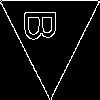B: (24, 8, 64, 42)
